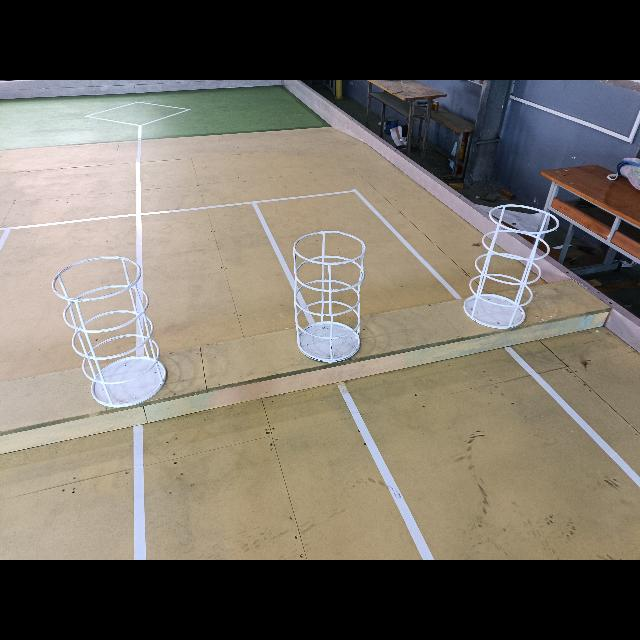S: (51, 256, 168, 408), (461, 204, 561, 330), (293, 230, 368, 364)
